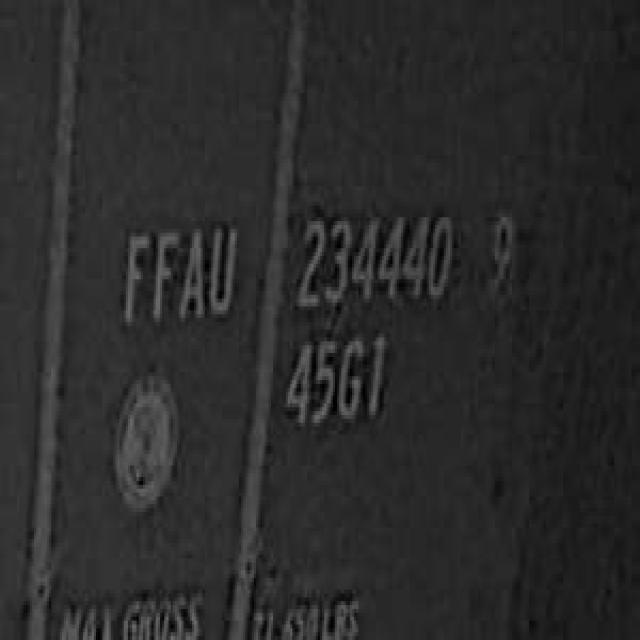dv: (480, 198, 521, 302)
owner: (113, 210, 239, 338)
serial: (292, 198, 454, 318)
size: (280, 326, 390, 438)
